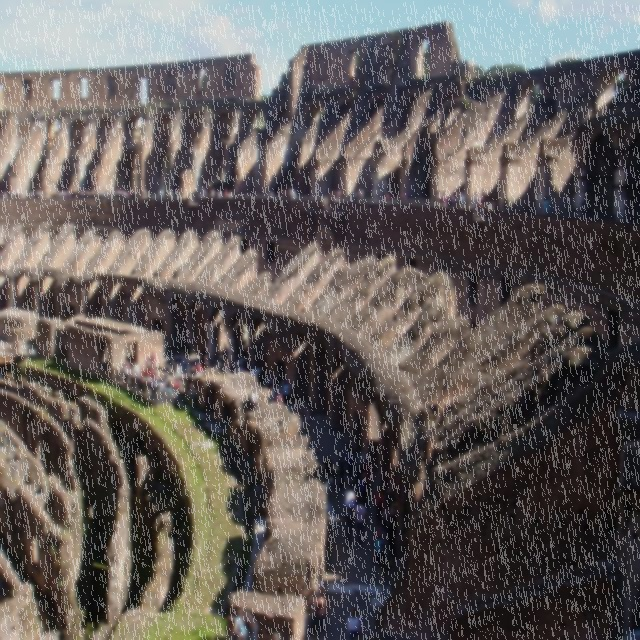pessoa: (50, 188, 138, 198), (311, 586, 327, 640), (374, 542, 390, 596), (239, 604, 259, 640), (344, 607, 364, 640), (354, 498, 367, 544), (230, 609, 249, 640), (373, 485, 384, 531), (344, 504, 354, 550), (386, 508, 396, 553), (359, 472, 371, 508), (344, 448, 356, 479), (337, 454, 347, 491), (381, 502, 391, 538), (344, 484, 356, 514), (323, 454, 333, 490), (302, 403, 312, 435), (314, 580, 324, 610), (474, 192, 484, 222), (375, 532, 383, 568), (235, 357, 244, 382), (282, 380, 290, 408), (358, 452, 368, 474), (157, 378, 165, 405), (250, 388, 258, 414), (272, 373, 280, 398), (502, 192, 509, 220), (473, 191, 480, 219), (384, 485, 394, 504), (222, 358, 230, 381), (439, 192, 446, 218), (147, 376, 154, 400), (256, 368, 264, 388), (346, 475, 356, 490), (176, 362, 182, 387), (146, 373, 152, 398), (122, 363, 128, 387), (456, 192, 465, 208), (274, 383, 284, 397), (264, 373, 274, 387), (192, 365, 197, 393), (280, 376, 286, 399), (294, 402, 302, 419), (178, 349, 186, 366), (173, 378, 179, 400), (128, 366, 134, 388), (441, 190, 448, 208), (0, 189, 9, 203), (146, 356, 152, 376), (481, 188, 486, 212), (358, 188, 366, 203), (171, 359, 176, 382), (201, 345, 207, 364), (216, 354, 222, 373), (390, 497, 397, 513), (242, 354, 248, 372), (286, 188, 292, 206), (164, 362, 170, 379), (134, 370, 140, 387), (278, 189, 284, 206), (205, 360, 212, 374), (183, 360, 190, 374), (543, 196, 550, 210), (268, 387, 274, 403), (251, 366, 259, 378), (139, 372, 147, 384), (470, 192, 476, 208), (148, 351, 154, 366), (14, 190, 24, 199), (275, 392, 283, 403), (437, 190, 442, 207), (228, 362, 235, 374), (200, 347, 204, 368), (164, 374, 168, 394), (34, 190, 44, 198), (133, 361, 139, 374), (334, 189, 341, 200), (330, 190, 334, 209), (272, 632, 281, 640), (174, 374, 180, 386), (454, 190, 460, 202), (290, 188, 296, 200), (200, 187, 207, 197), (196, 362, 202, 373), (402, 189, 408, 200), (247, 360, 252, 373), (222, 343, 227, 356), (150, 364, 154, 380), (353, 190, 358, 202), (228, 189, 232, 204), (176, 188, 181, 200), (158, 189, 164, 199), (158, 372, 164, 382), (167, 380, 174, 388), (267, 190, 274, 198), (238, 364, 244, 373), (224, 364, 230, 373), (450, 193, 455, 203), (143, 189, 148, 199), (214, 366, 220, 374), (216, 190, 222, 198), (124, 358, 128, 368), (210, 187, 214, 197), (169, 189, 173, 199), (152, 354, 156, 364), (282, 189, 288, 195), (224, 189, 228, 198), (30, 190, 34, 199), (256, 366, 262, 372), (223, 352, 228, 359), (204, 367, 208, 375), (140, 364, 144, 372), (392, 190, 396, 198), (386, 192, 390, 200), (244, 343, 248, 349), (209, 368, 213, 374), (154, 378, 158, 384), (398, 192, 402, 198), (142, 367, 145, 375), (381, 191, 384, 197), (167, 190, 170, 196), (4, 194, 8, 198), (156, 194, 158, 198)
